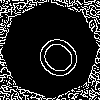O: (25, 25, 85, 85)
